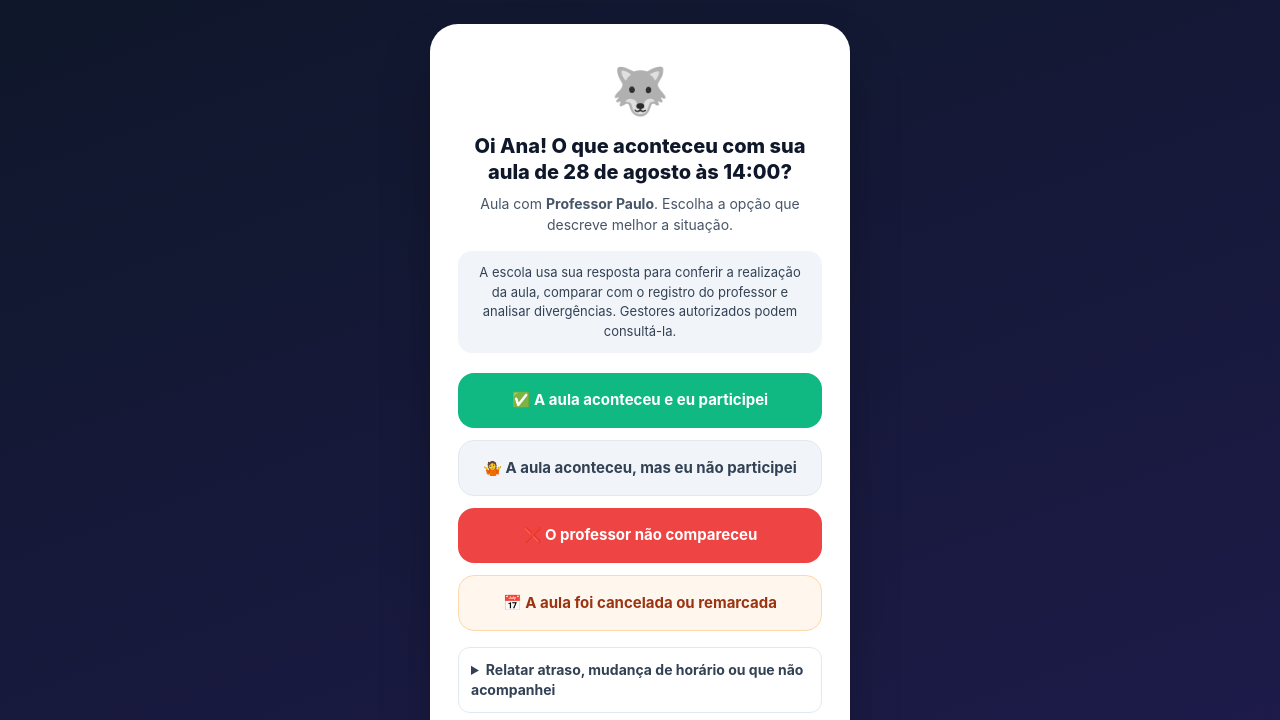
Test: <ConfirmAttendance /> › só oferece cancelamento ou remarcação quando o servidor autoriza a resposta
Click the button "📅 A aula foi cancelada ou remarcada".
click(640, 603)  # box [458, 574, 822, 631]
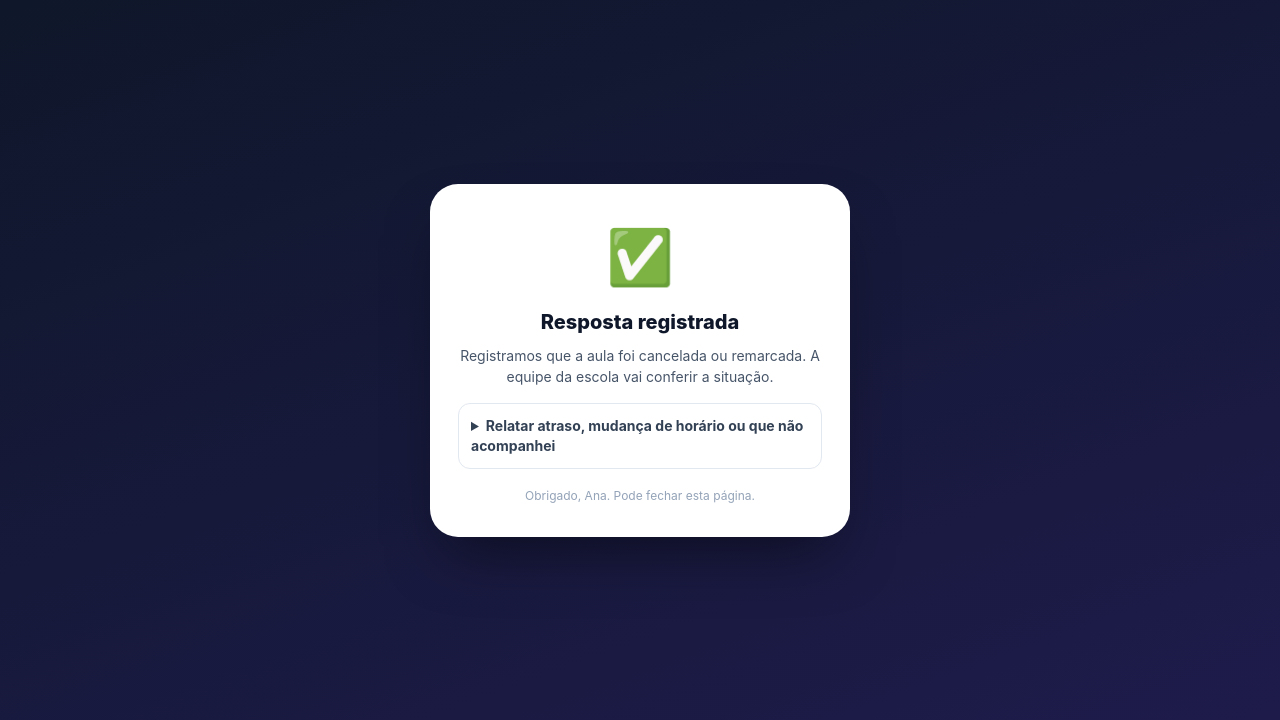
expect the text "Registramos que a aula foi cancelada ou remarcada" is shown: met, box [460, 346, 820, 384]
